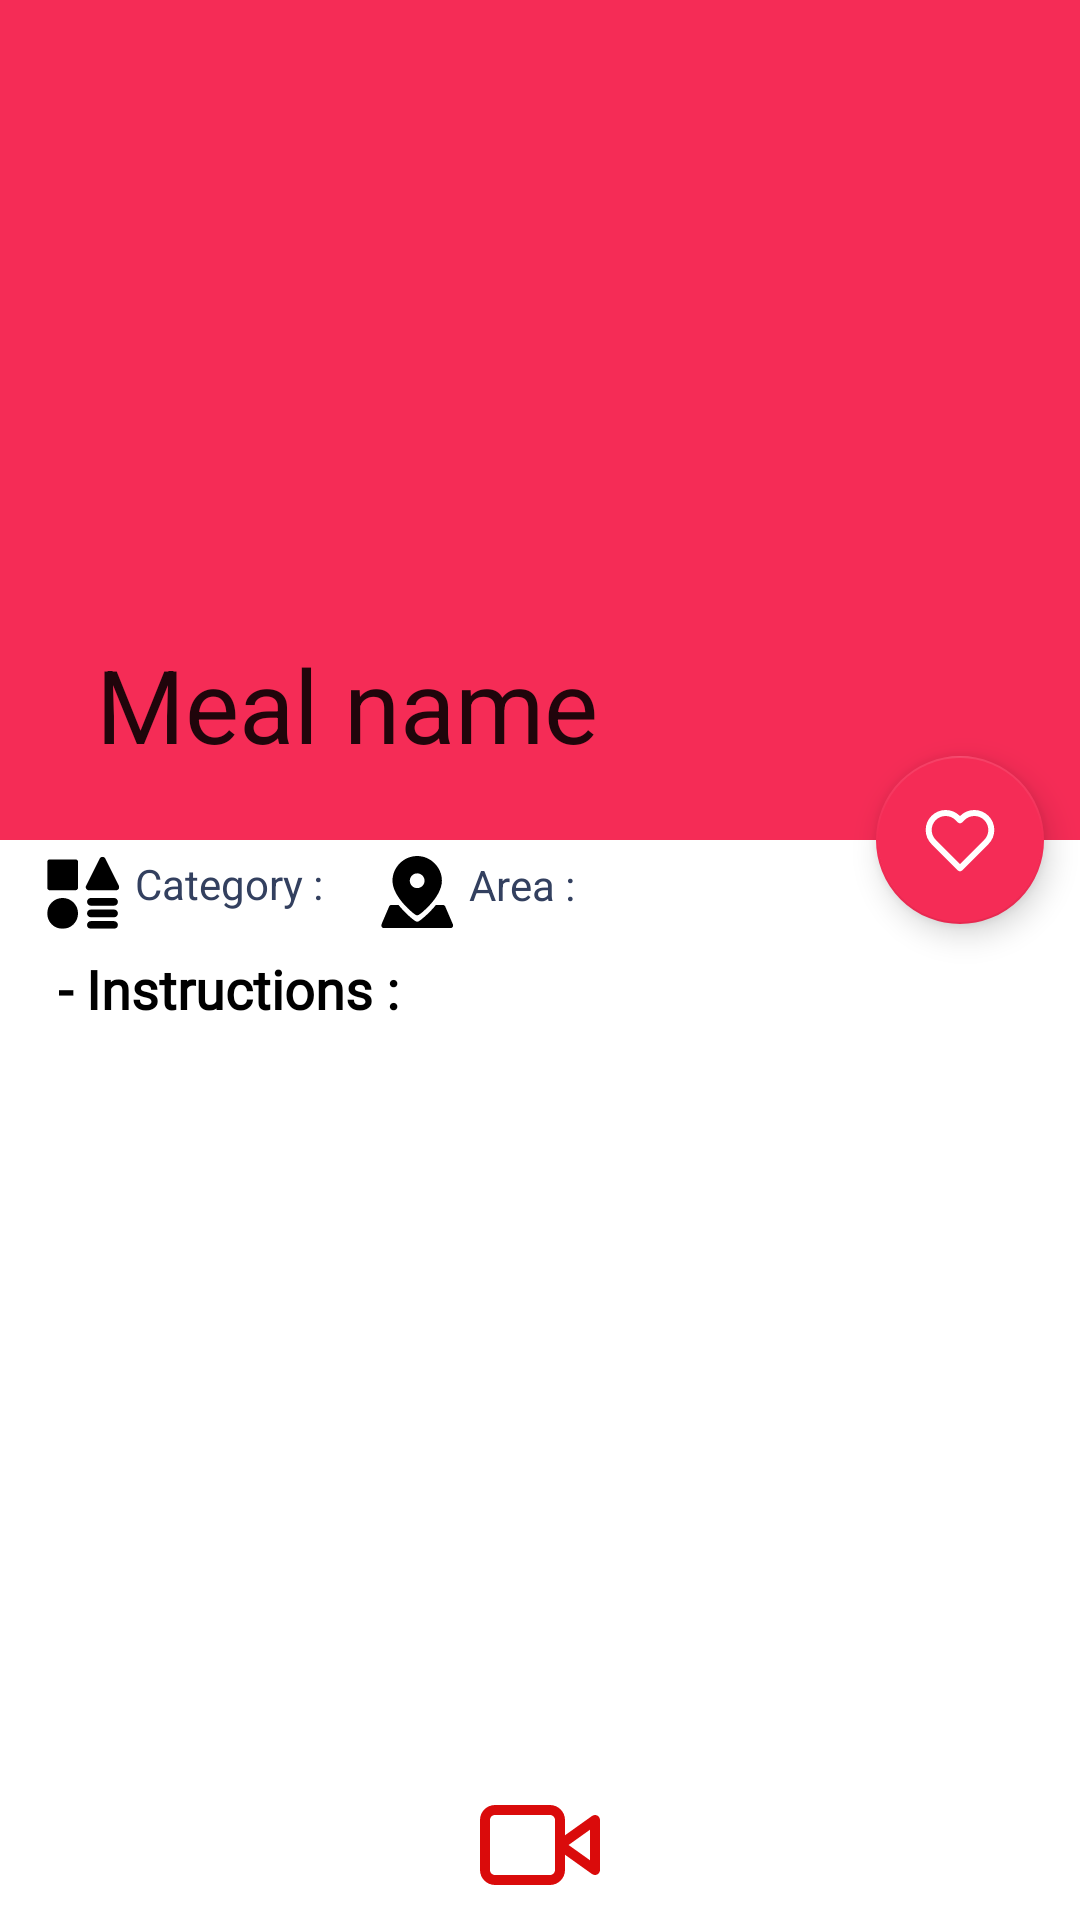

Where to tap for icons on this 1080w x 1920h app screen, as (x,y):
heart: (960,840)
video: (540,1845)
